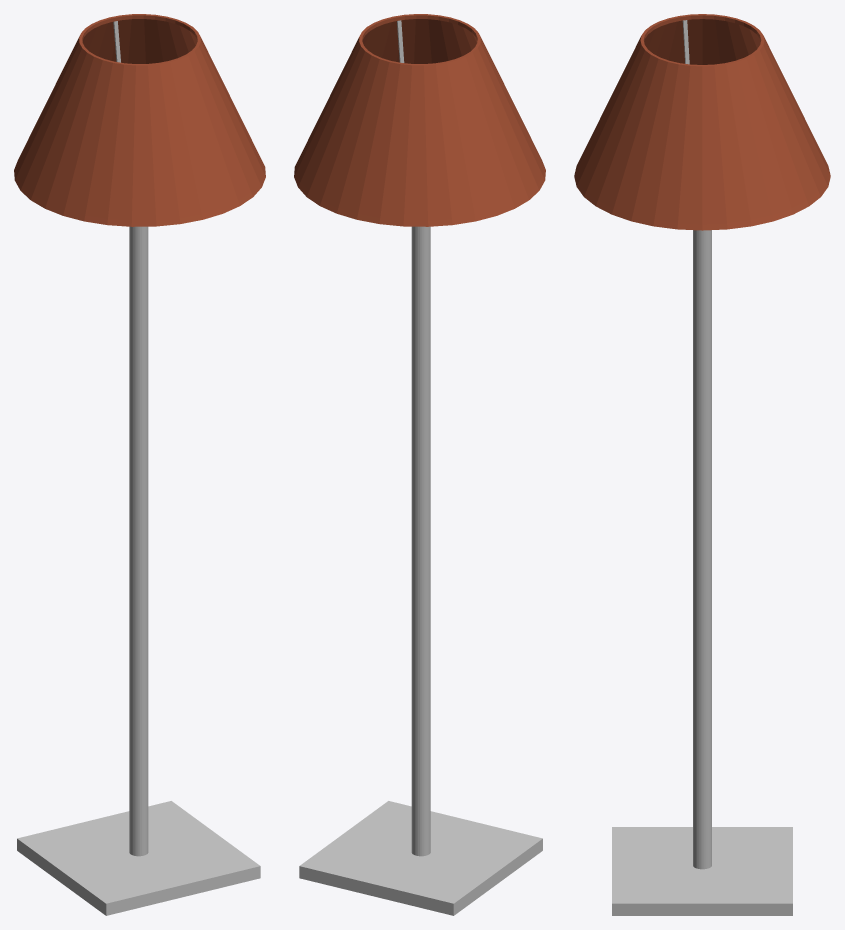
File: straight_lamp.obj
3 renders of one model, left to right at view 1: azimuth 30°, elevation 25°; view 2: azimuth 150°, elevation 25°; view 3: azimuth 270°, elevation 25°, orthographic.
Parts seen in each view (by area): view 1: shade.inside_shade.001, Cube_Cube.001, Cylinder, shade; view 2: shade.inside_shade.001, Cube_Cube.001, Cylinder, shade; view 3: shade.inside_shade.001, Cube_Cube.001, shade, Cylinder.
Part boxes in pixels (<box>): shade.inside_shade.001: <box>14,14,265,226</box>; Cube_Cube.001: <box>17,801,260,915</box>; Cylinder: <box>129,226,148,856</box>; shade: <box>14,14,265,226</box>; shade.inside_shade.001: <box>294,14,545,226</box>; Cube_Cube.001: <box>299,801,542,915</box>; Cylinder: <box>411,226,430,856</box>; shade: <box>294,14,544,226</box>; shade.inside_shade.001: <box>574,14,830,230</box>; Cube_Cube.001: <box>612,827,792,915</box>; shade: <box>574,14,830,230</box>; Cylinder: <box>693,230,711,869</box>.
Size of the model in its own units: 0.3965 by 1.43 by 0.3965.
